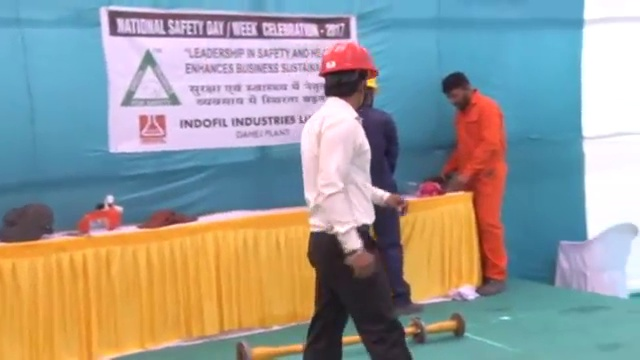helmet: (316, 39, 379, 77), (364, 75, 383, 96)
helmet_off: (440, 70, 475, 111)
helmet_on: (316, 39, 379, 112), (360, 73, 384, 112)
person: (299, 38, 414, 360), (439, 70, 511, 297), (359, 70, 423, 311)
